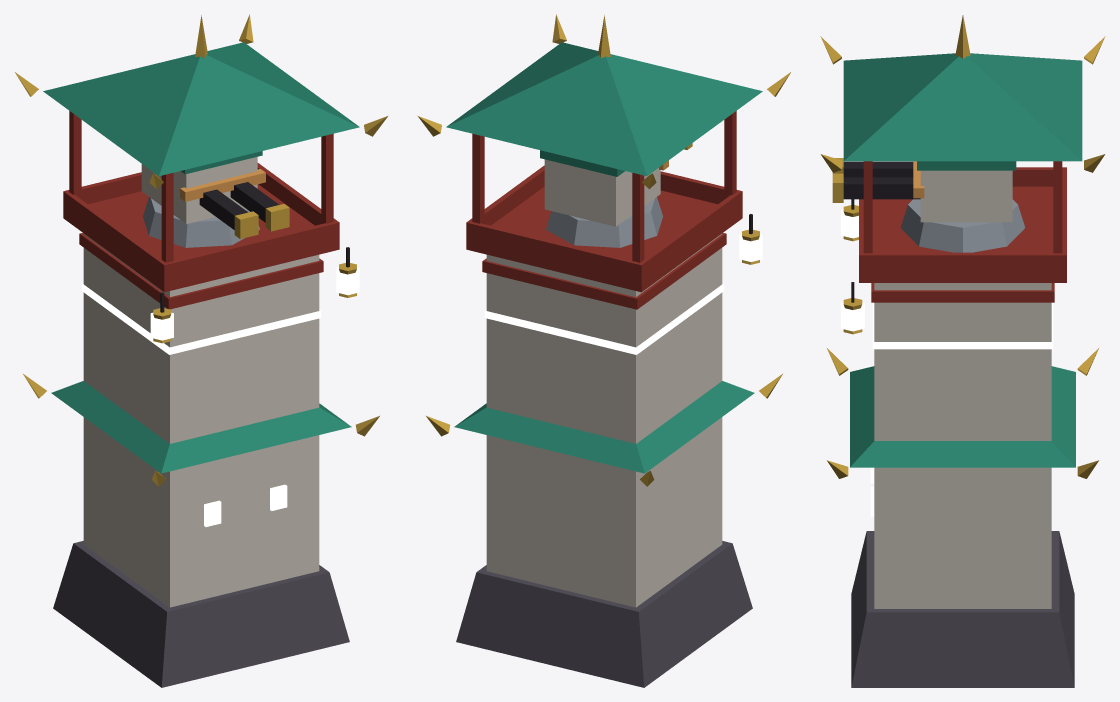
The model's file is tower_t4.glb.
The picture shows the model from 3 angles, left to right: view 1: azimuth 30°, elevation 25°; view 2: azimuth 150°, elevation 25°; view 3: azimuth 270°, elevation 25°; orthographic projection. The views are drawn at different scales.
Visible parts, largest first — view 1: body, part_turret, glow; view 2: body, part_turret, glow; view 3: body, part_turret, glow.
Boxes of the visible parts, x1,y1,x2,y2 form: body: (15, 14, 387, 687); part_turret: (141, 151, 289, 247); glow: (81, 267, 359, 526); body: (418, 14, 790, 687); part_turret: (540, 143, 692, 247); glow: (484, 234, 762, 354); body: (820, 15, 1105, 687); part_turret: (832, 158, 1025, 252); glow: (841, 210, 1053, 516).
Bounding box in the file's own units: 1.83 × 4.52 × 1.87.
